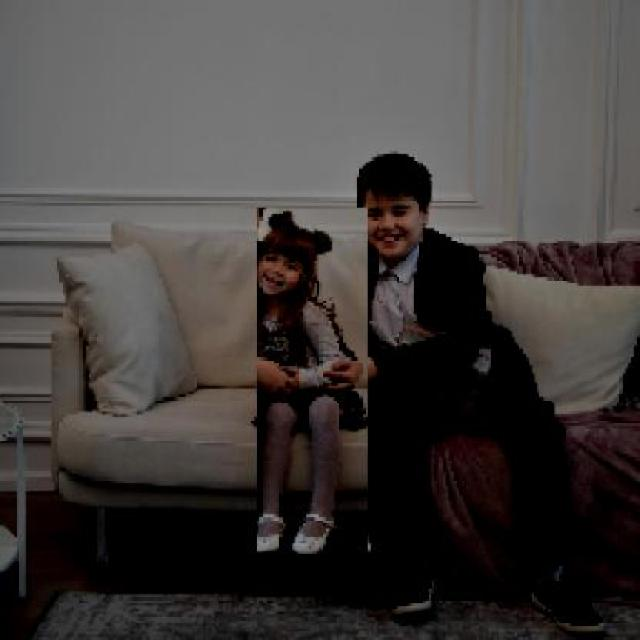child: (255, 207, 368, 558)
